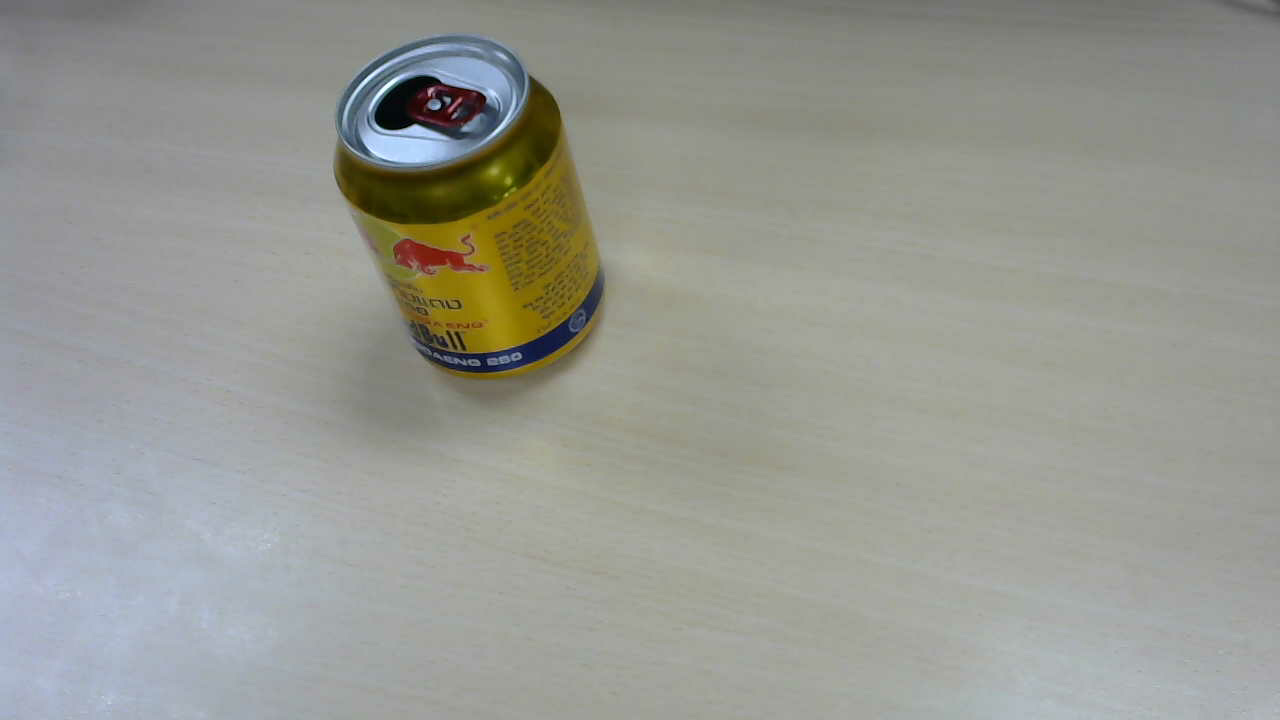Red_Bull: (336, 40, 615, 390)
